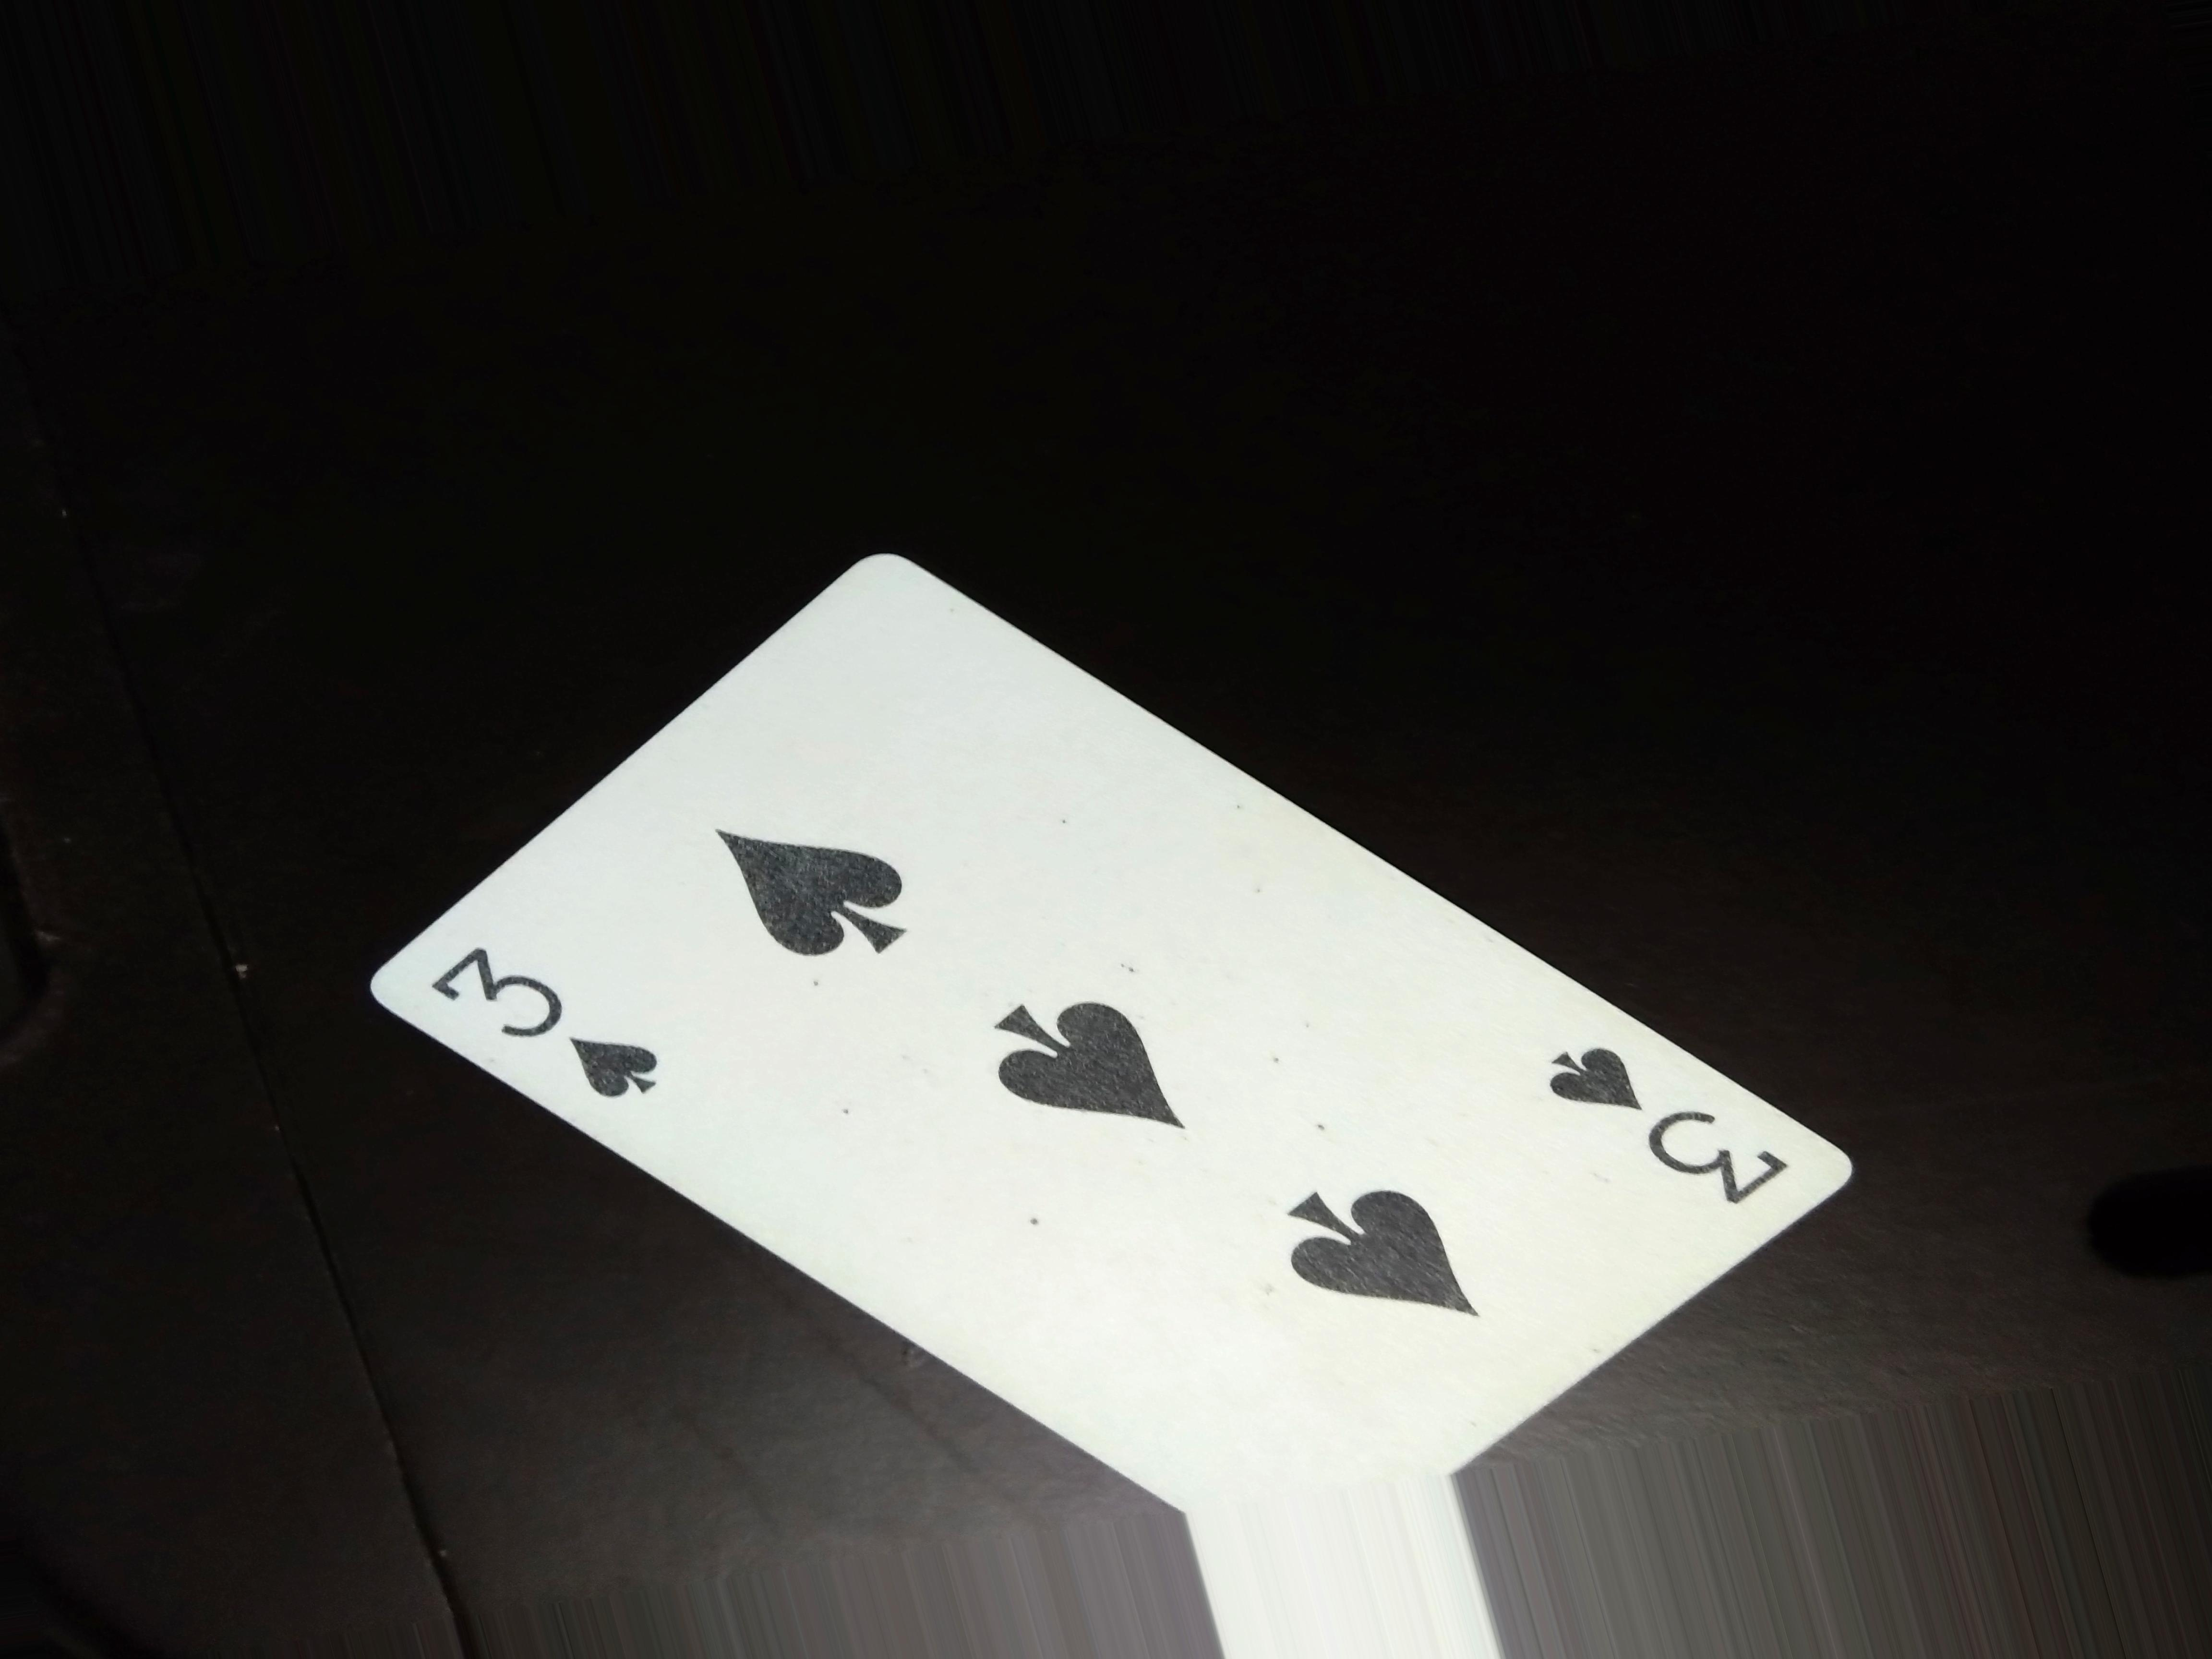3S: (423, 945, 678, 1119)
